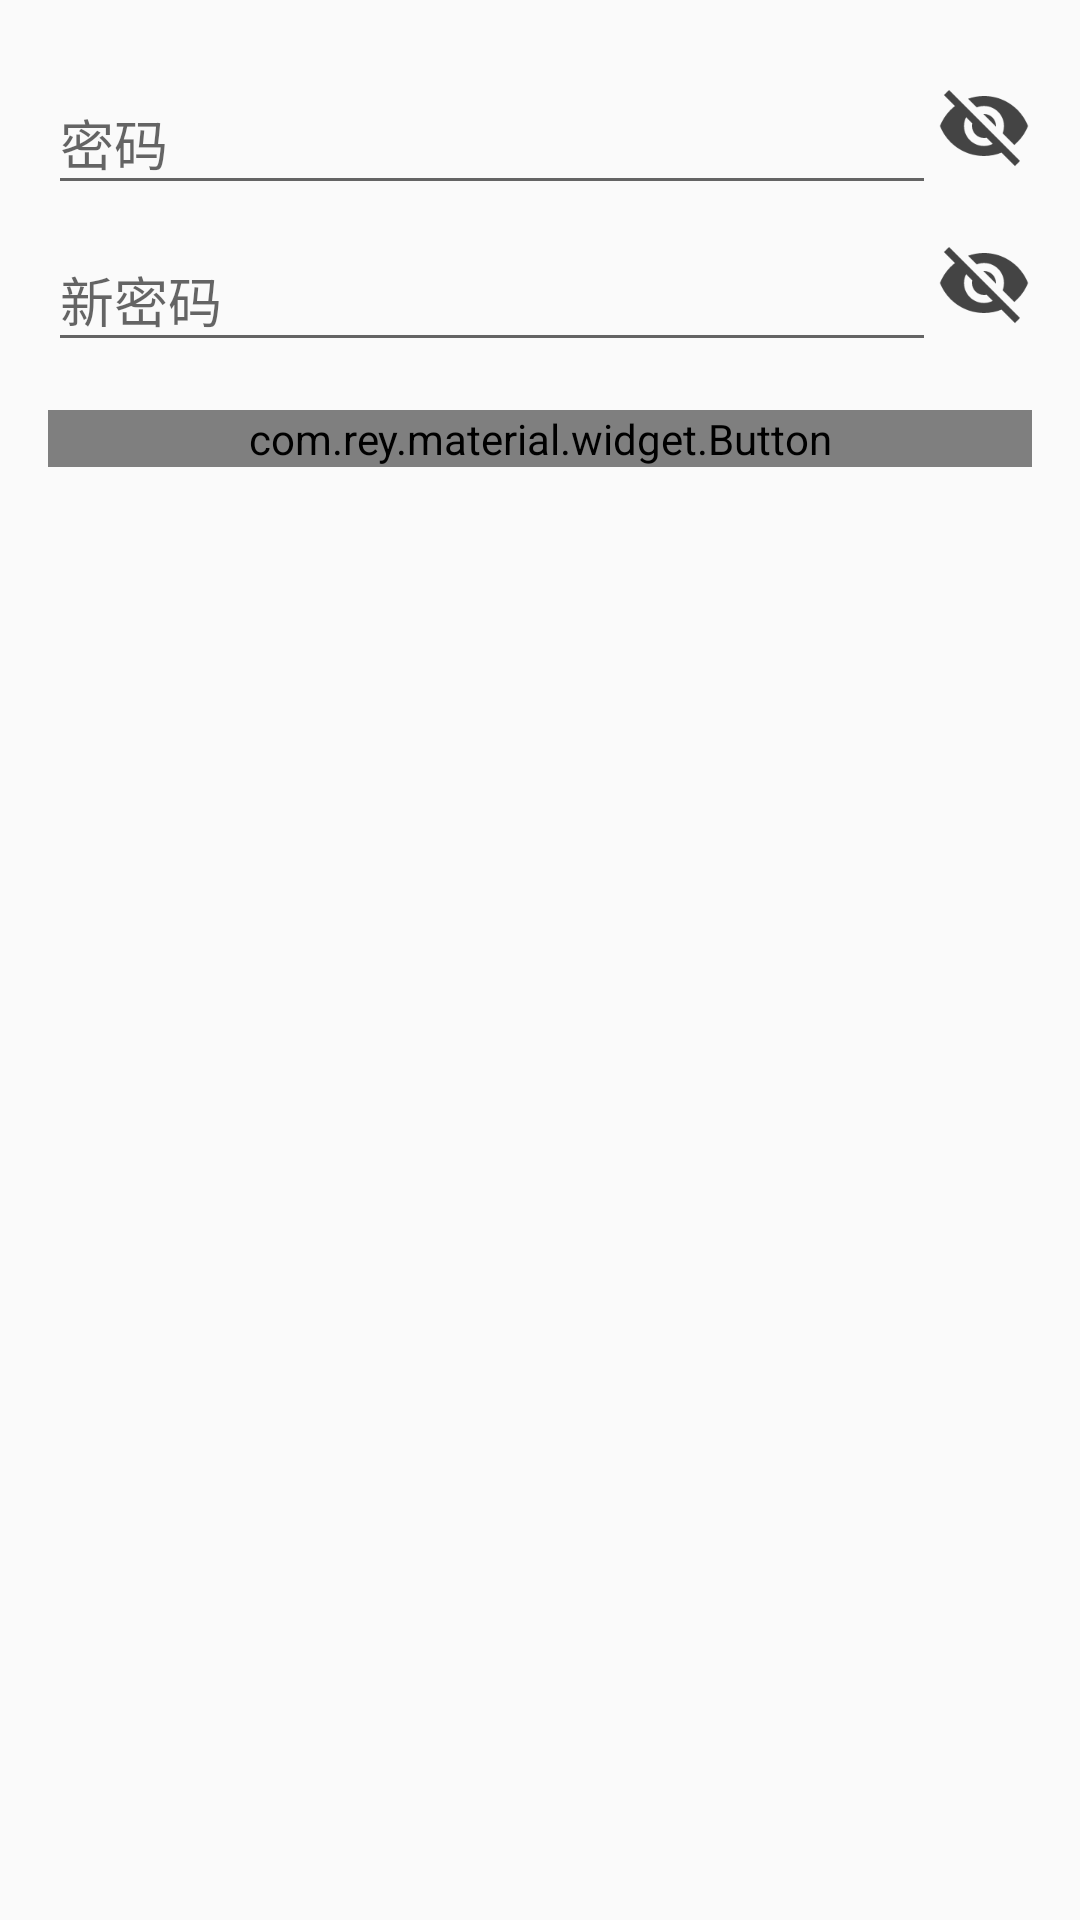

Locate icon controls on the screen. Image size 1080*1920, boxes as (x1, y1, x2, y2).
eye off: (940, 90, 1028, 166), (940, 247, 1028, 323)
